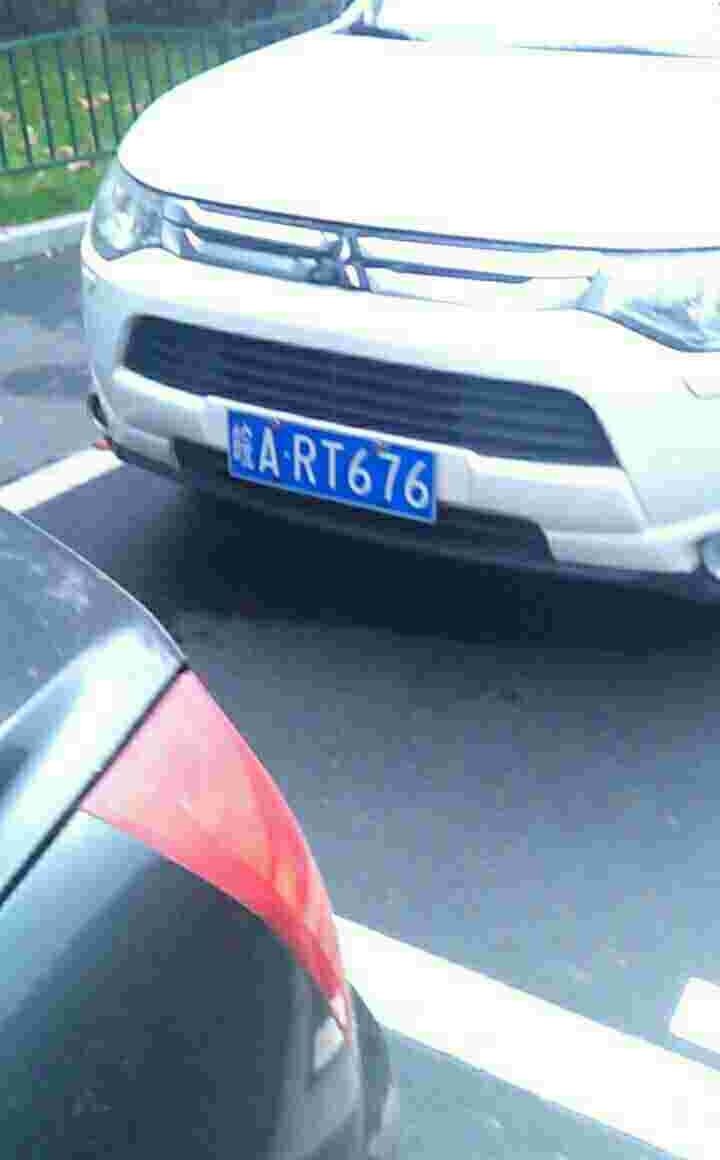license_plate: (217, 404, 441, 526)
